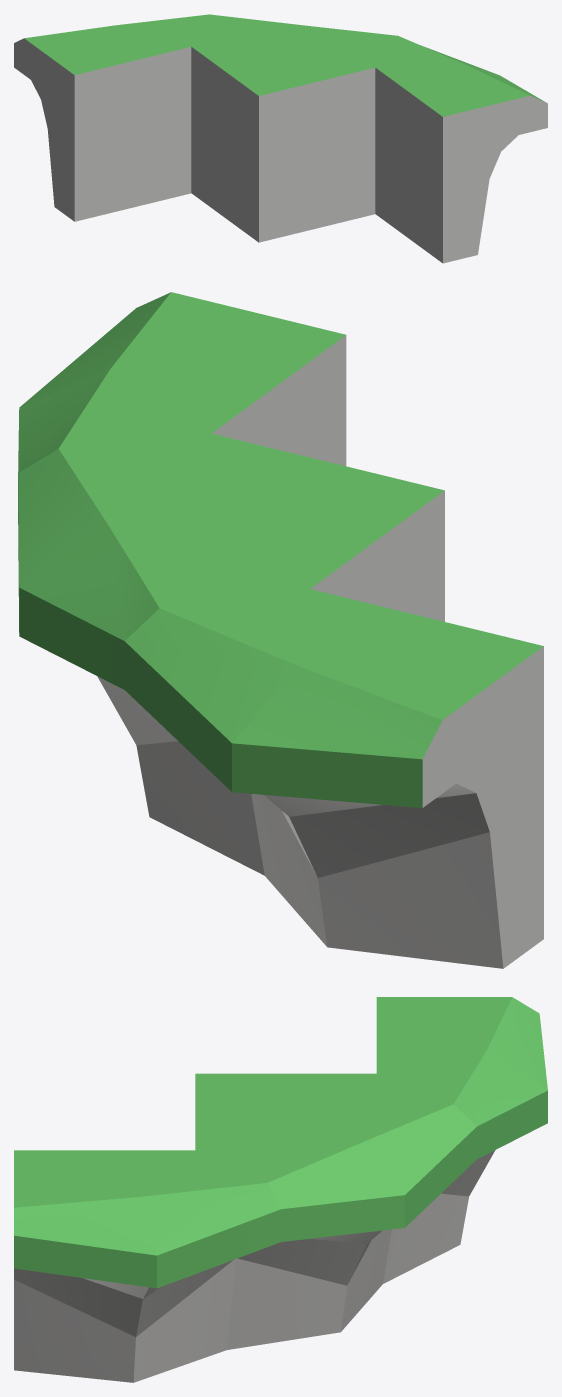
File: Cliff_Top_Corner_Outer_Lg.glb
3 views of the same model, one above another, from view 1: azimuth 30°, elevation 25°; view 2: azimuth 150°, elevation 25°; view 3: azimuth 270°, elevation 25° (orthographic). The views are drawn at different scales.
Parts seen in each view (by area): view 1: object1; view 2: object1; view 3: object1.
Boxes of the visible parts, <box> form: object1: <box>14,14,547,263</box>; object1: <box>18,292,543,968</box>; object1: <box>14,997,547,1382</box>.
Size of the model in its own units: 2.95 by 1.2 by 2.95.
